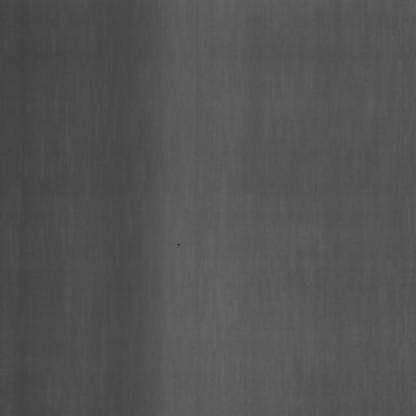inclusion: (170, 232, 186, 256)
